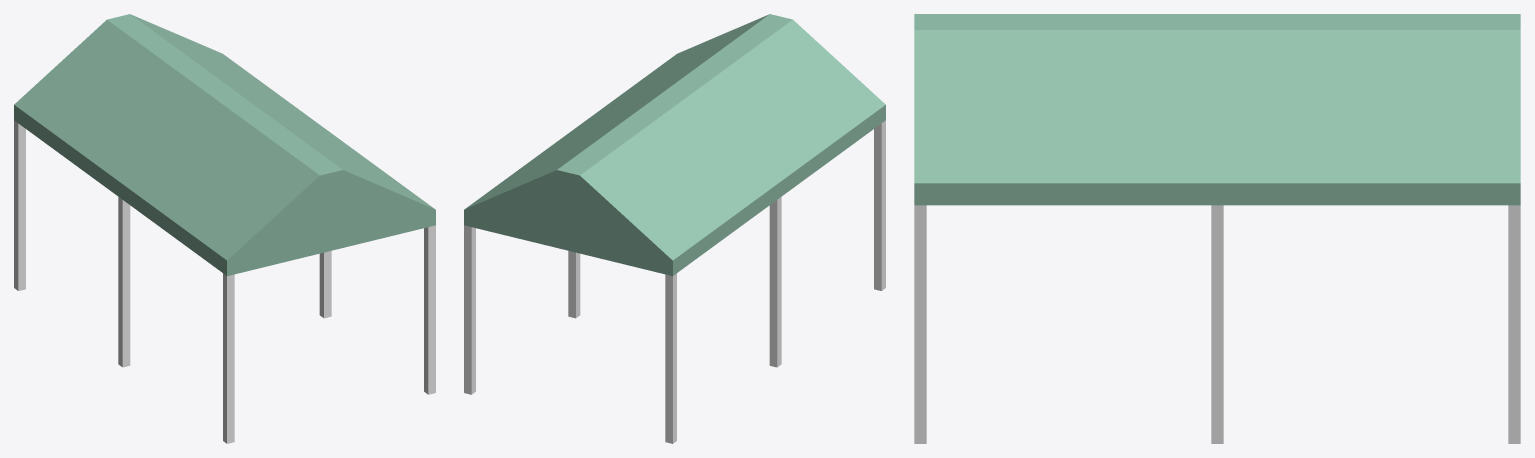
Rendered from tentRoof.glb.
3 renders of one model, left to right at view 1: azimuth 30°, elevation 25°; view 2: azimuth 150°, elevation 25°; view 3: azimuth 270°, elevation 25°, orthographic. The views are drawn at different scales.
Parts seen in each view (by area): view 1: tentRoof; view 2: tentRoof; view 3: tentRoof.
Boxes of the visible parts, box(x1,y1,x2,y2) form: tentRoof: box(14, 14, 435, 443); tentRoof: box(464, 14, 885, 443); tentRoof: box(914, 14, 1520, 443).
Size of the model in its own units: 2.8 by 3.15 by 4.95.
